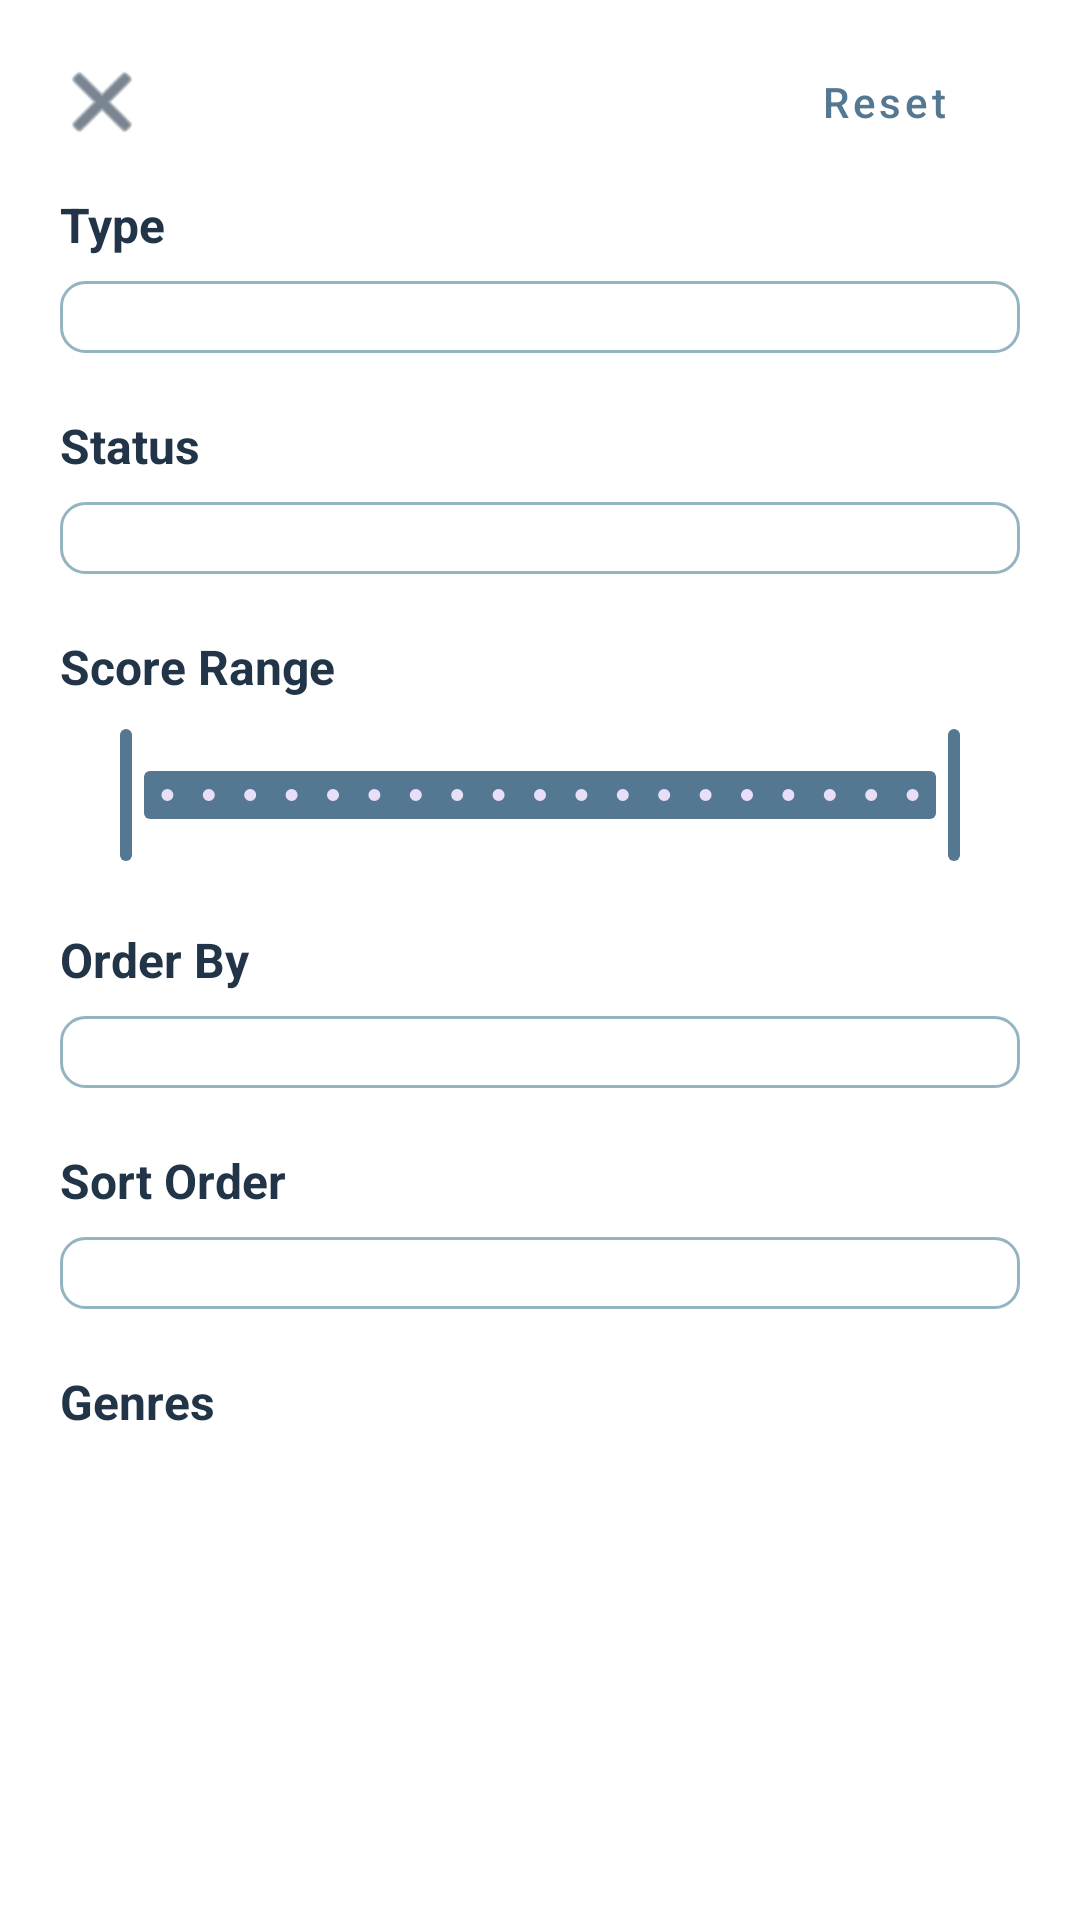

Screen size 1080×1920. Icon name, then its box in pixels as box=[x1, y1, x2, y2]:
Cancel: box=[72, 72, 132, 132]
